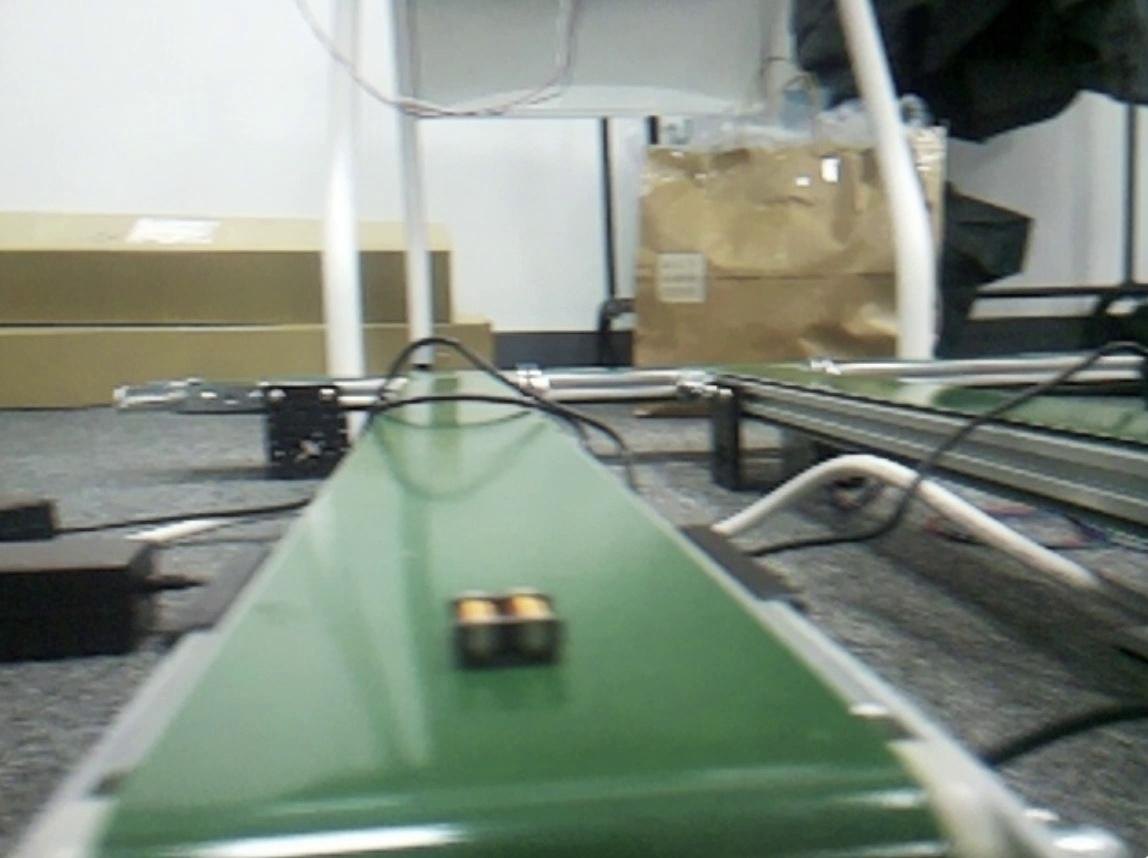inductor: (457, 593, 561, 663)
